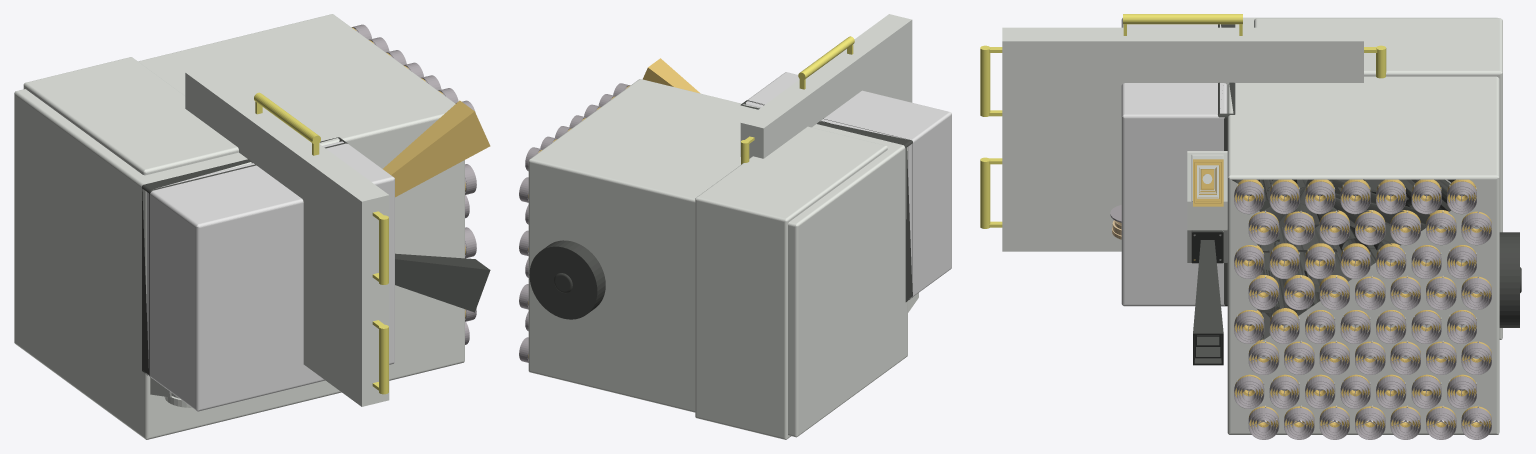
Rendered from station-explorer-for-x-ray-timing-and-navigation.glb.
3 renders of one model, left to right at view 1: azimuth 30°, elevation 25°; view 2: azimuth 150°, elevation 25°; view 3: azimuth 270°, elevation 25°, orthographic. The views are drawn at different scales.
Parts seen in each view (by area): view 1: Layer_0, Layer_4; view 2: Layer_0, Layer_4; view 3: Layer_0, Layer_4.
Part boxes in pixels (x1=…): Layer_0: x1=14, y1=14, x2=490, y2=439; Layer_4: x1=142, y1=137, x2=490, y2=411; Layer_0: x1=519, y1=14, x2=918, y2=439; Layer_4: x1=529, y1=72, x2=951, y2=319; Layer_0: x1=980, y1=14, x2=1502, y2=439; Layer_4: x1=1121, y1=18, x2=1521, y2=421.
Size of the model in its own units: 116 by 106 by 159.
Materials: 2 (2 with a texture image).
